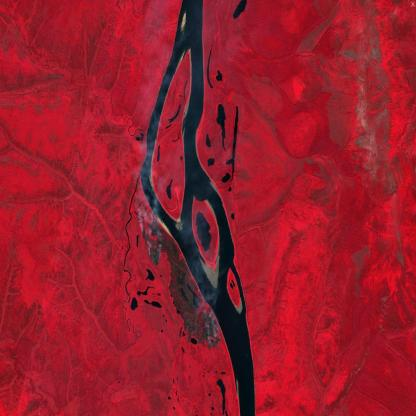fire: (136, 212, 226, 351)
